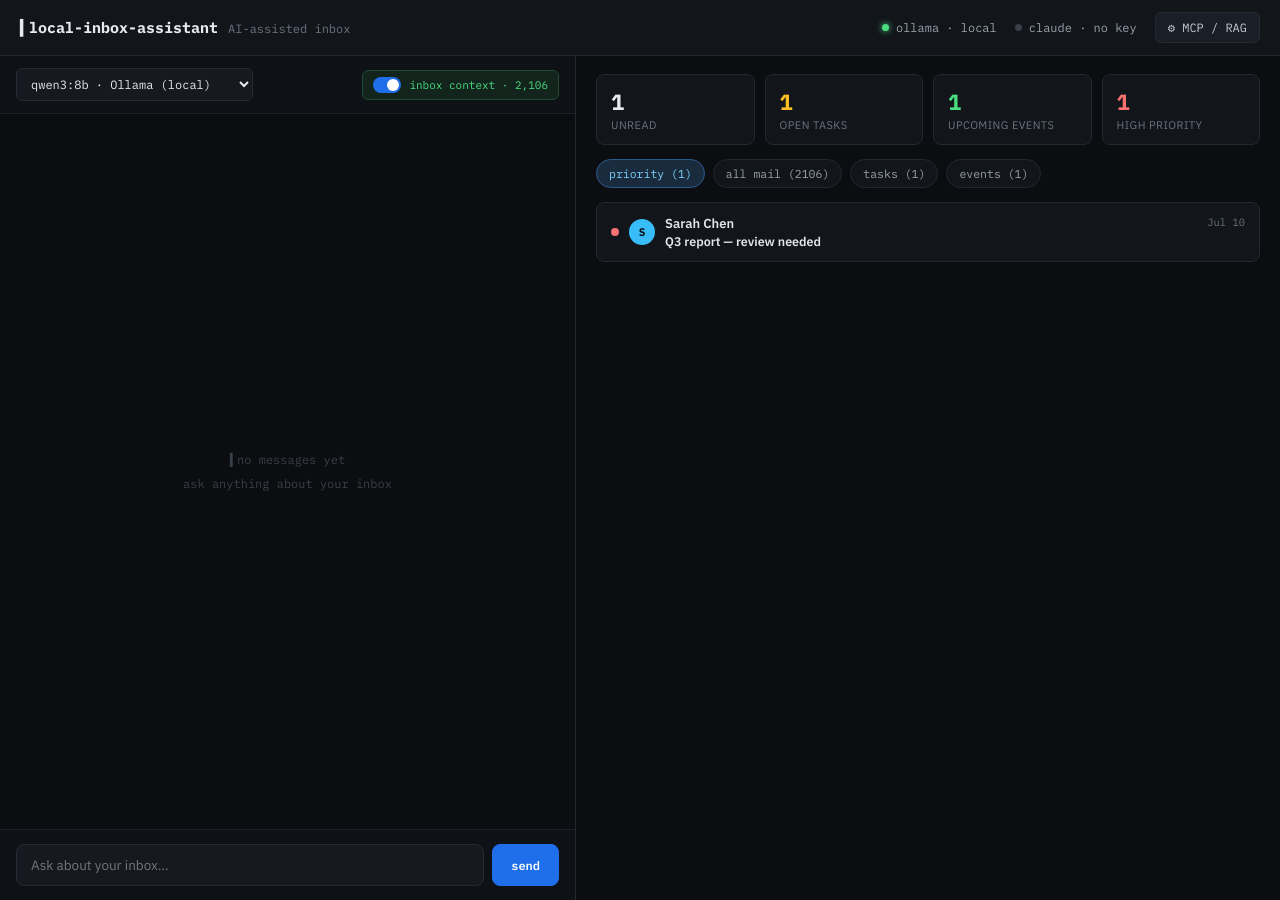
Test: App › summarizes an email into the chat panel and pins it for follow-ups
Click the text "Sarah Chen" at (700, 224), box [665,215,734,232]
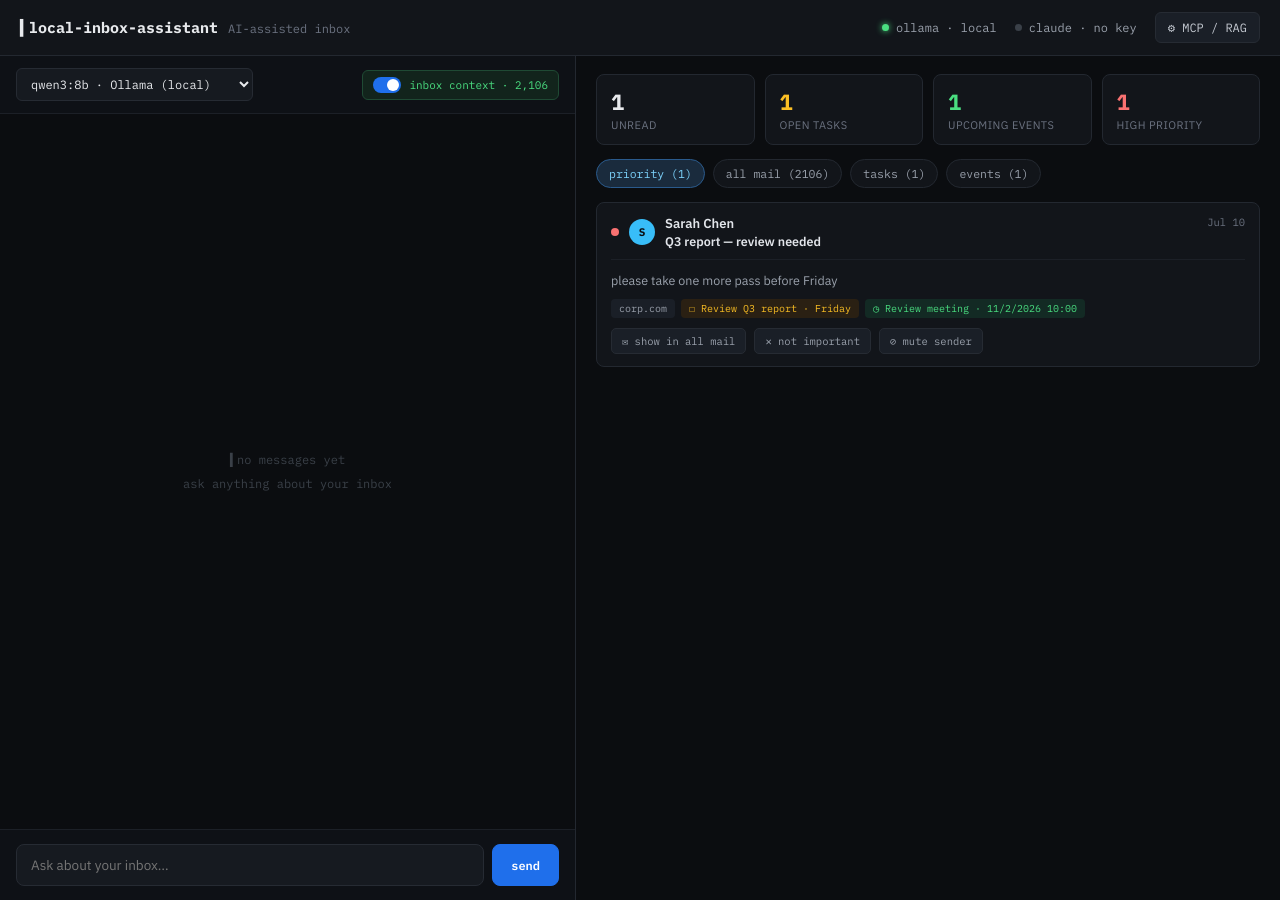
Expected: the text "≡ summarize" is not shown
Click the button "all mail (2106)" at (778, 174), box [713,159,842,188]
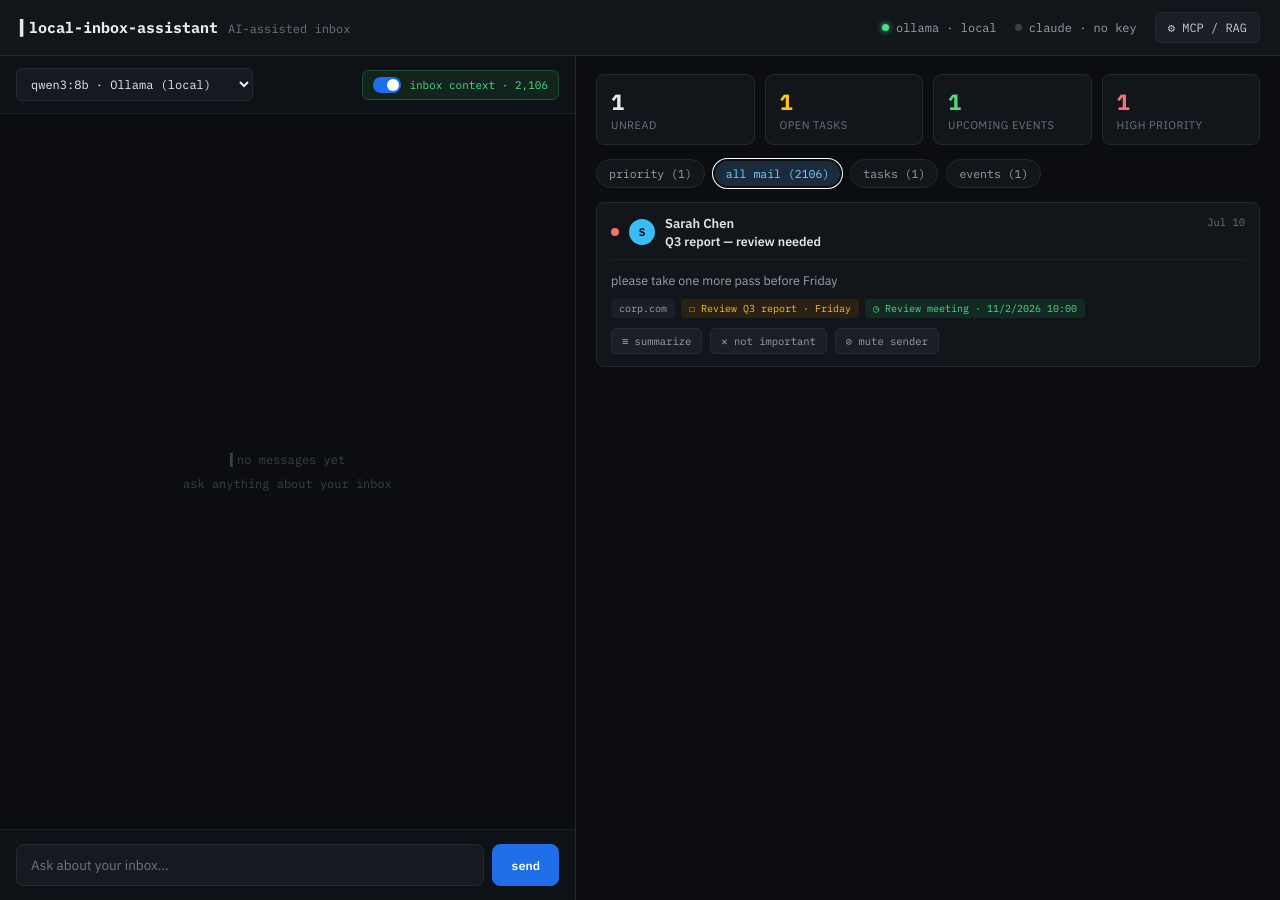
Click the button "≡ summarize" at (657, 341), box [611,328,702,354]
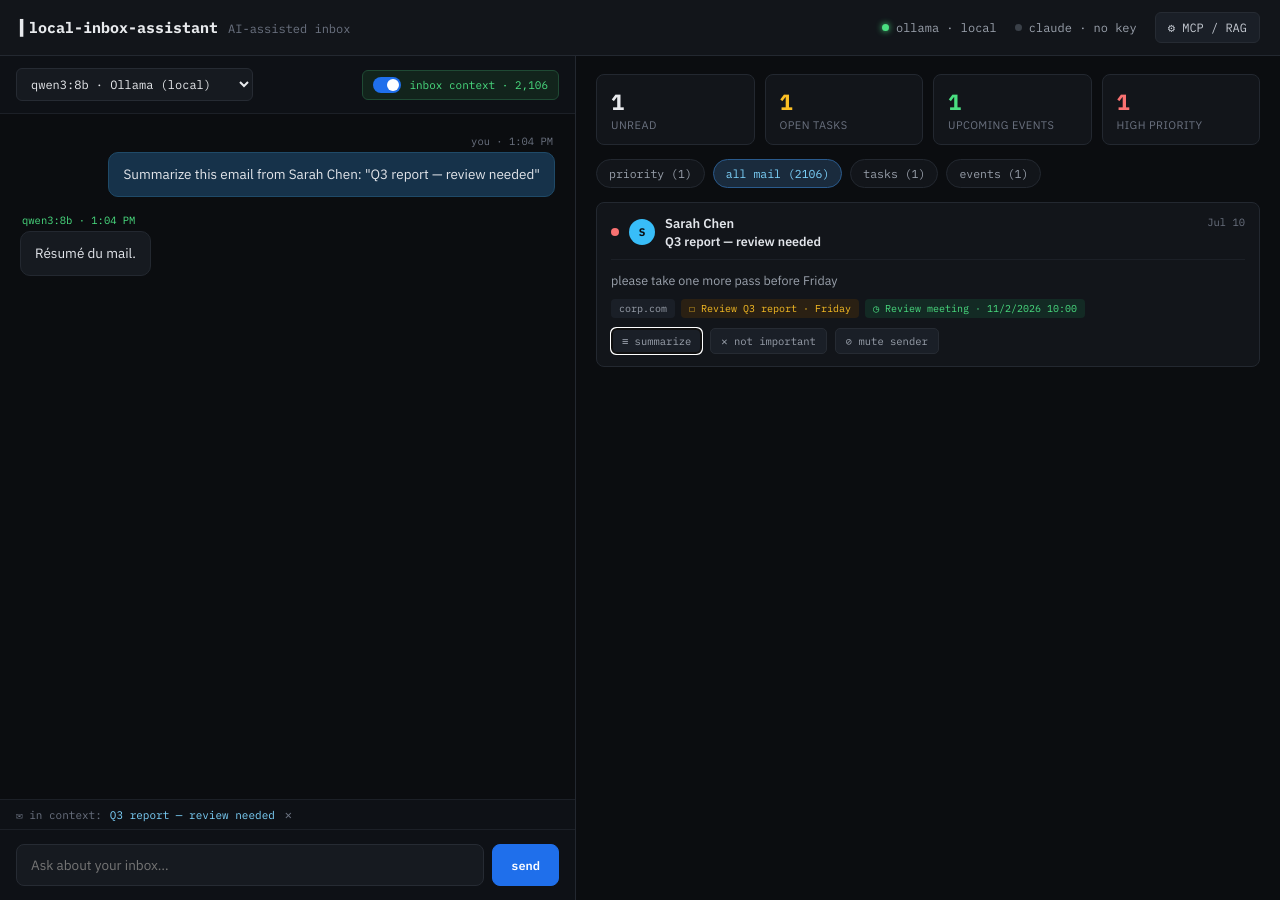
Expected: the text "Résumé du mail." is shown, [35,243,136,264]
Expected: the text "✉ in context:" is shown, [16,808,102,822]
Type "who sent it?" into the field with placeholder "Ask about your inbox…" at (250, 865), box [16,844,484,886]
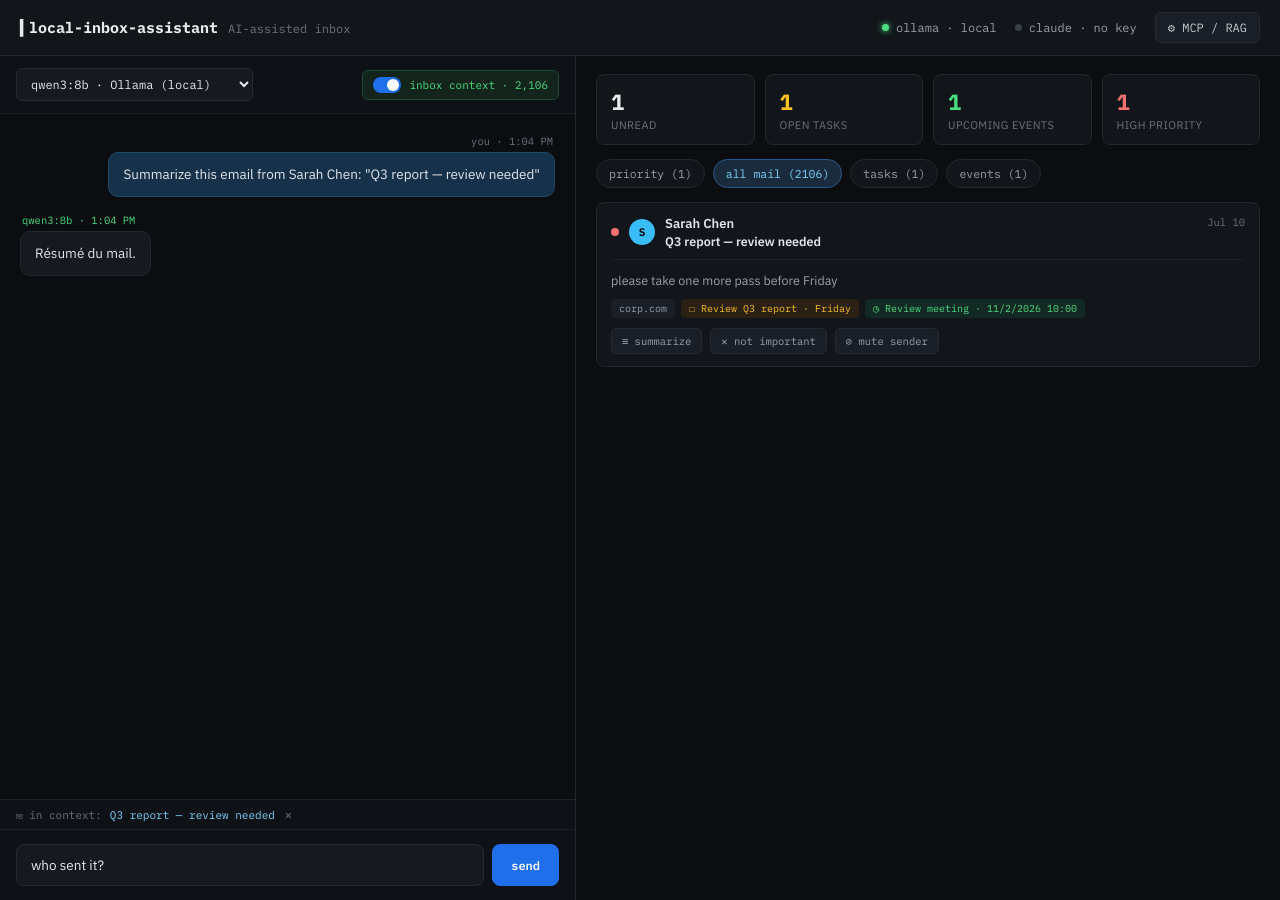
Click the button "send" at (526, 865), box [492,844,559,886]
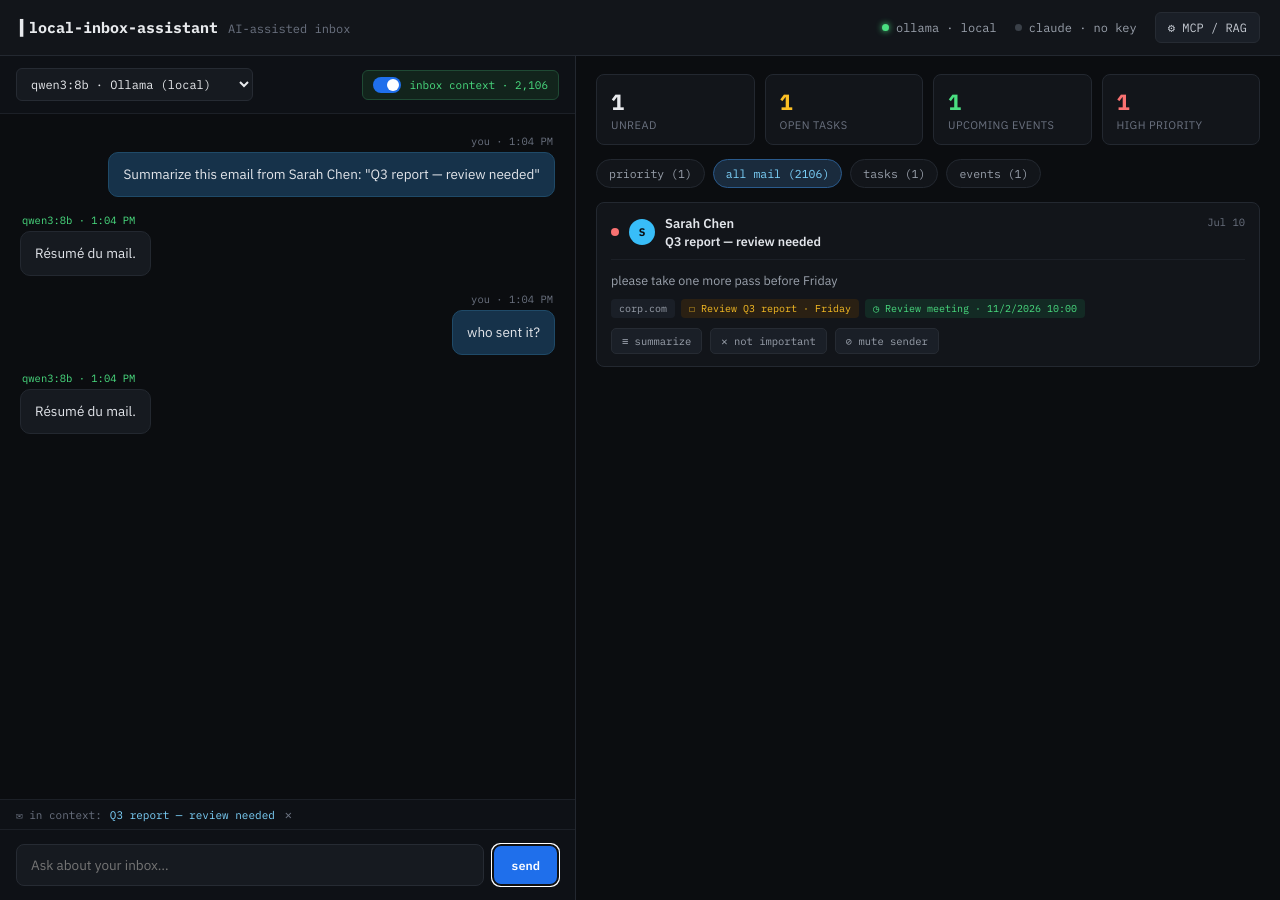
the ✕ on the chip unpins the email
Click the button titled "Drop this email from the chat context" at (288, 814), box [283,807,294,822]
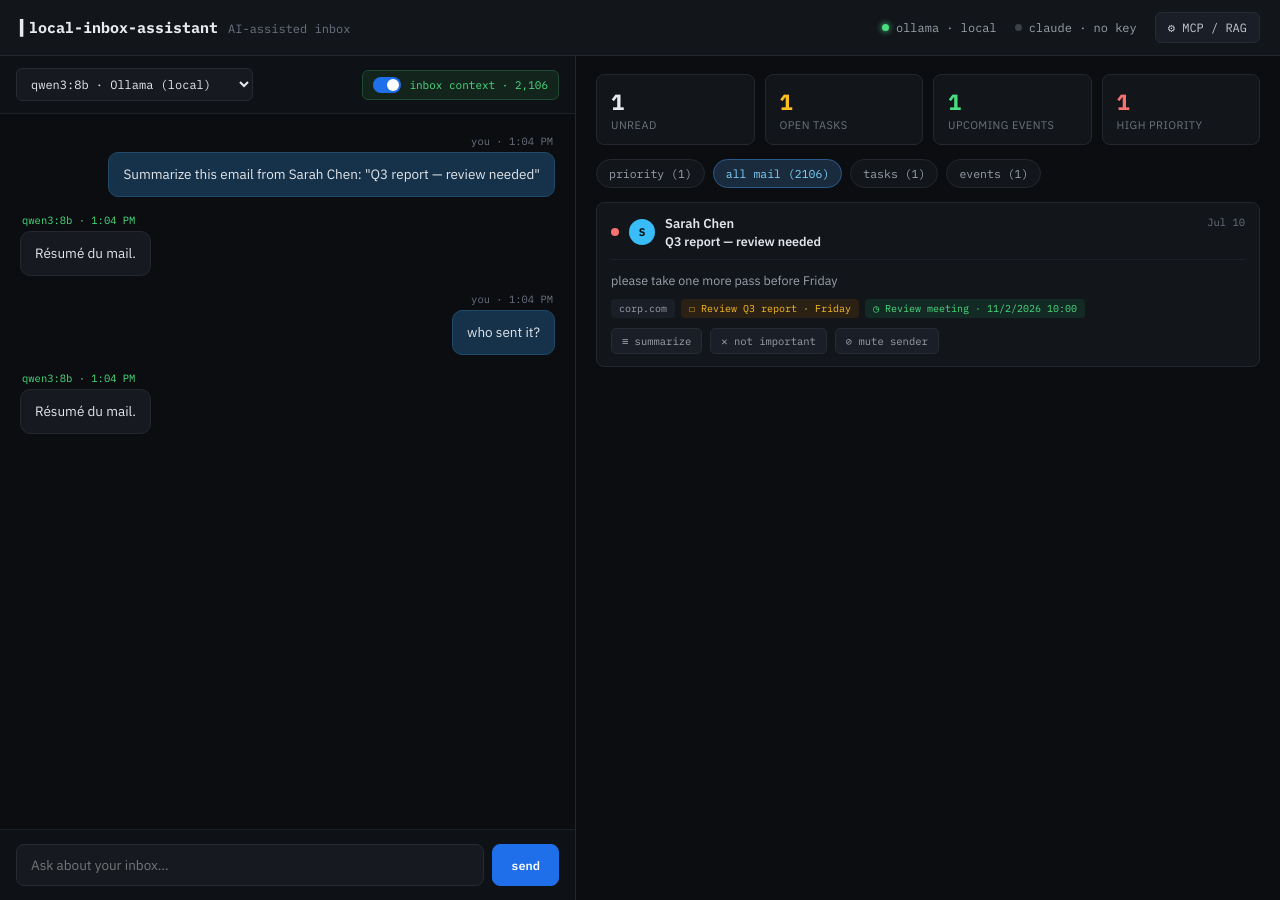
Expected: the text "✉ in context:" is gone
